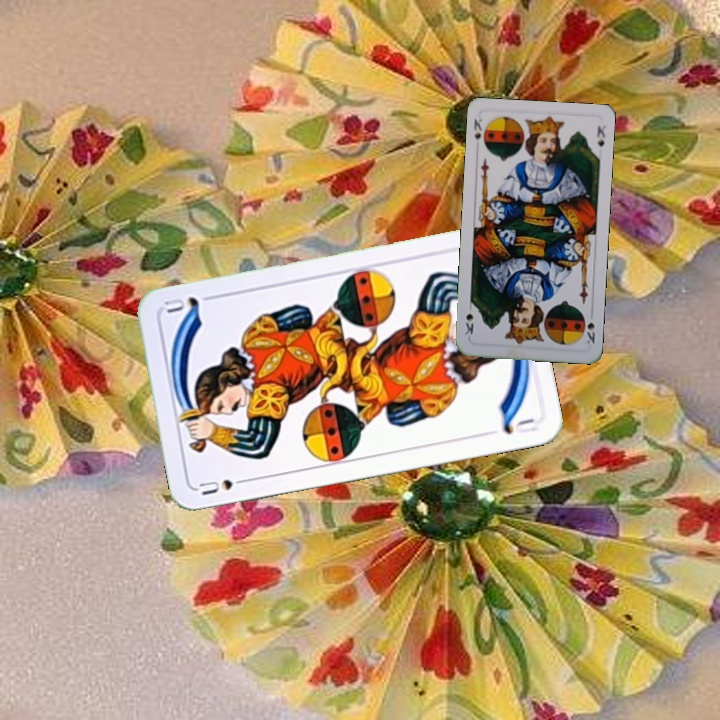SK: (470, 115, 489, 151), (581, 318, 597, 346)
SU: (195, 474, 253, 498)
